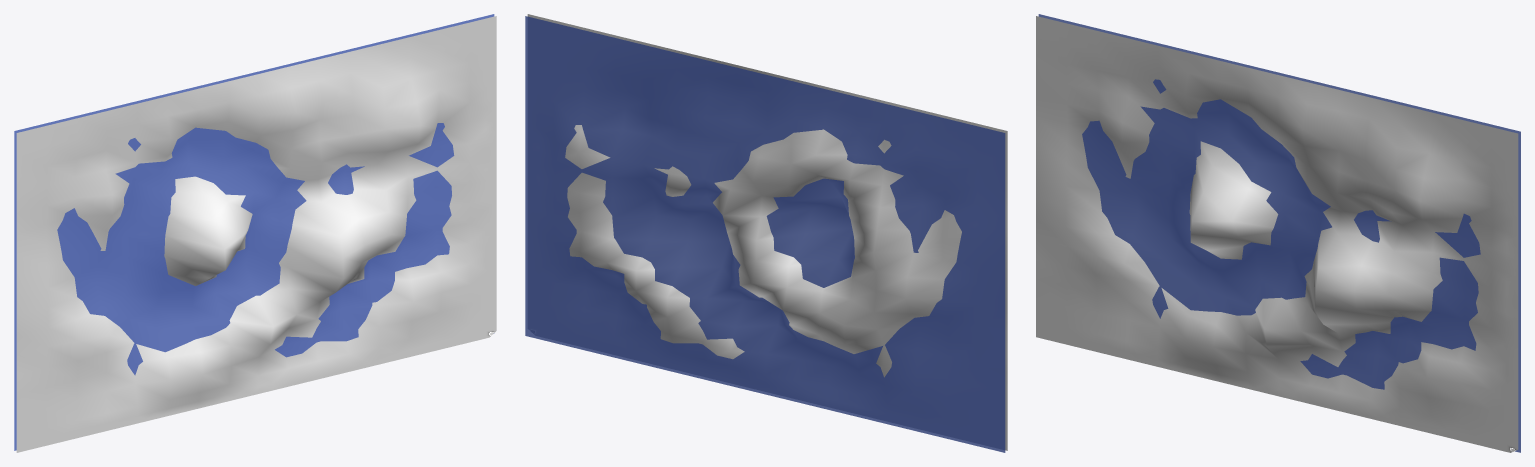
Rendered from lakes.gltf.
3 views of the same model, side by side, from view 1: azimuth 30°, elevation 25°; view 2: azimuth 150°, elevation 25°; view 3: azimuth 330°, elevation 25° (orthographic).
Parts seen in each view (by area): view 1: landscape_earth, landscape_water; view 2: landscape_earth, landscape_water; view 3: landscape_earth, landscape_water.
Part boxes in pixels (left/top/right/bottom): landscape_earth: left=16, top=16, right=496, bottom=452; landscape_water: left=14, top=14, right=494, bottom=450; landscape_earth: left=527, top=14, right=1007, bottom=450; landscape_water: left=525, top=16, right=1005, bottom=452; landscape_earth: left=1036, top=16, right=1518, bottom=452; landscape_water: left=1038, top=14, right=1520, bottom=452.
Bounding box in the file's own units: 3.14 × 2 × 0.461.
